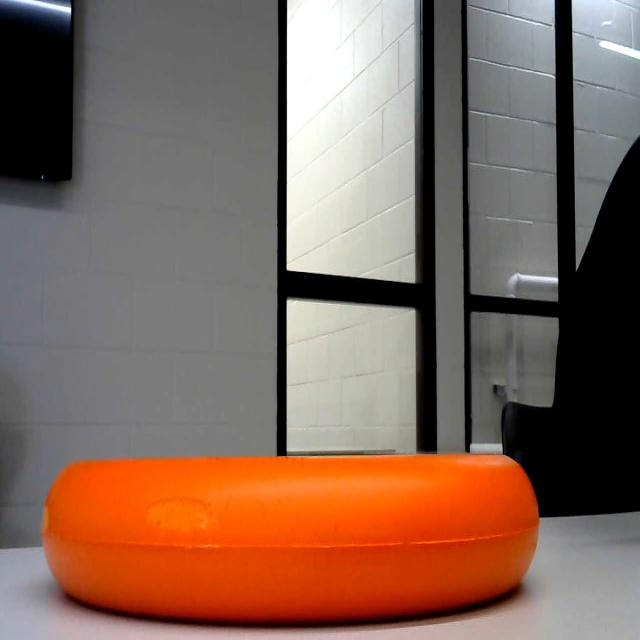note: (32, 428, 551, 639)
